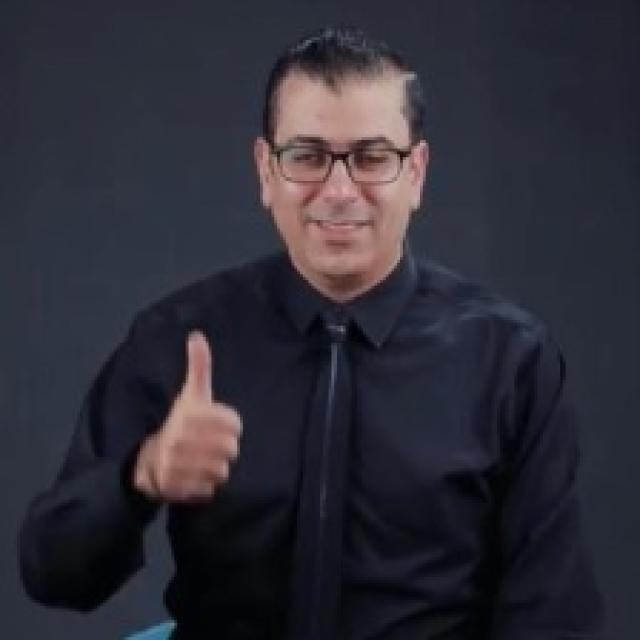fine: (150, 325, 247, 509)
